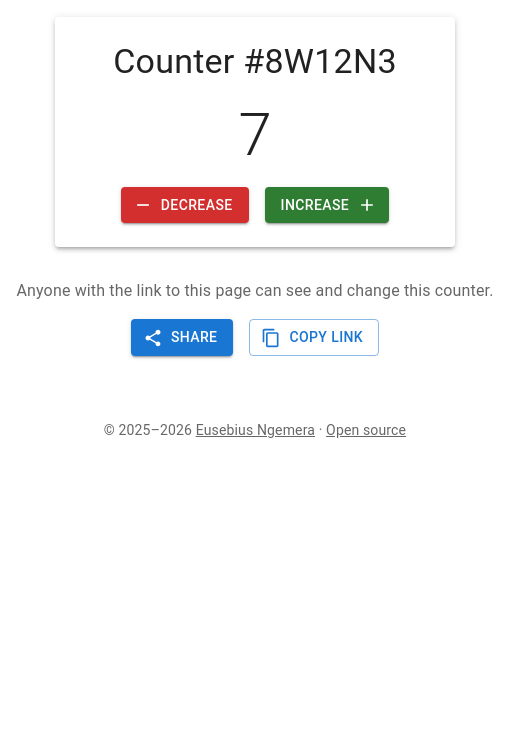
CounterPage Component › says so when the link can't be copied
Click the button "Copy link". click: (314, 338)
box: [249,320,379,356]
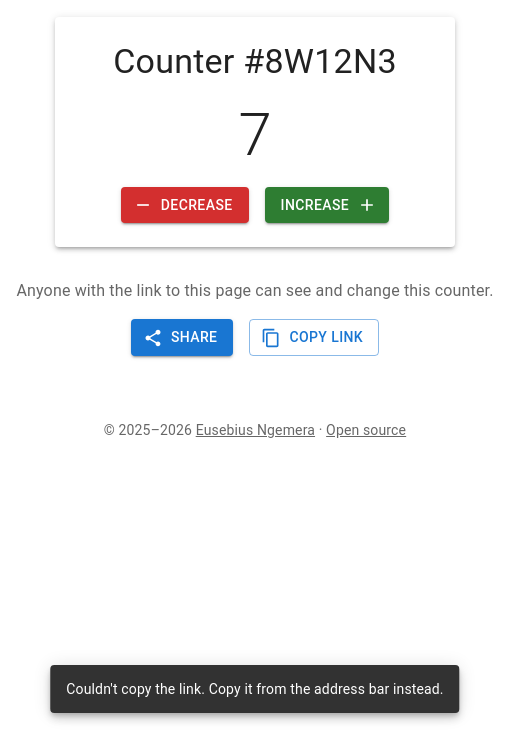
Now the text "Couldn't copy the link" is shown, box [66,681,444,697]
